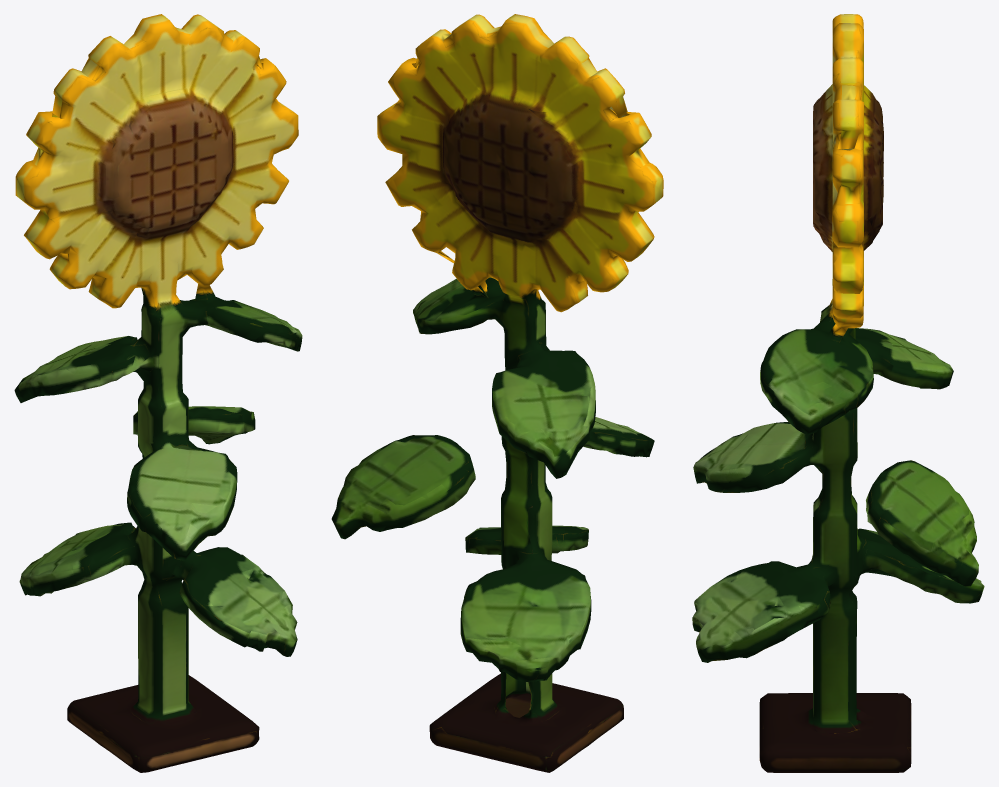
Rendered from sunflower.fbx.
3 views of the same model, side by side, from view 1: azimuth 30°, elevation 25°; view 2: azimuth 150°, elevation 25°; view 3: azimuth 270°, elevation 25° (orthographic).
Visible parts, largest first — view 1: Sunflower; view 2: Sunflower; view 3: Sunflower.
Part boxes in pixels (x1,y1,x2,y2): Sunflower: (14, 14, 302, 772); Sunflower: (331, 14, 663, 772); Sunflower: (692, 14, 984, 772).
Bounding box in the file's own units: 18.11 × 45 × 16.59.
1 material, 1 textured.
